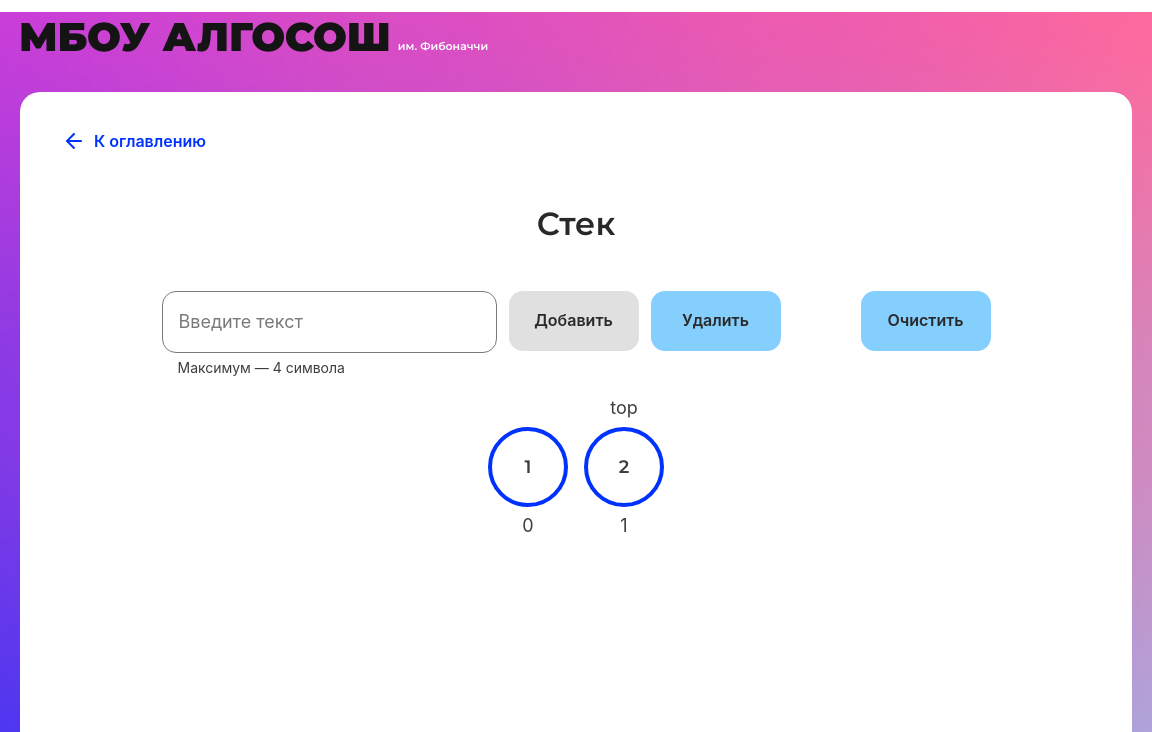
testing stack page › removing from stack works properly
Click the button with test id "removeFromStackButton". click: (716, 321)
box: top-left (651, 291), bottom-right (781, 351)
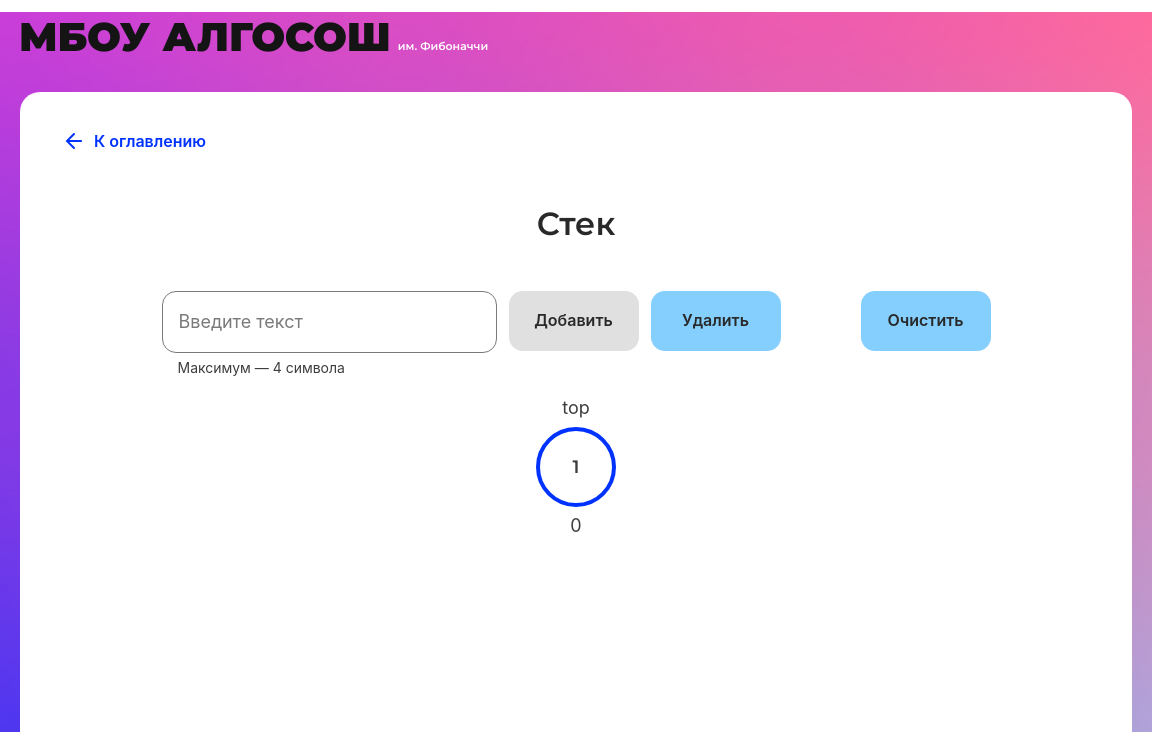
Expected: the number of elements with test id "circle" is 1, top-left (536, 427), bottom-right (616, 507)
Click the button with test id "removeFromStackButton". click: (716, 321)
box: top-left (651, 291), bottom-right (781, 351)
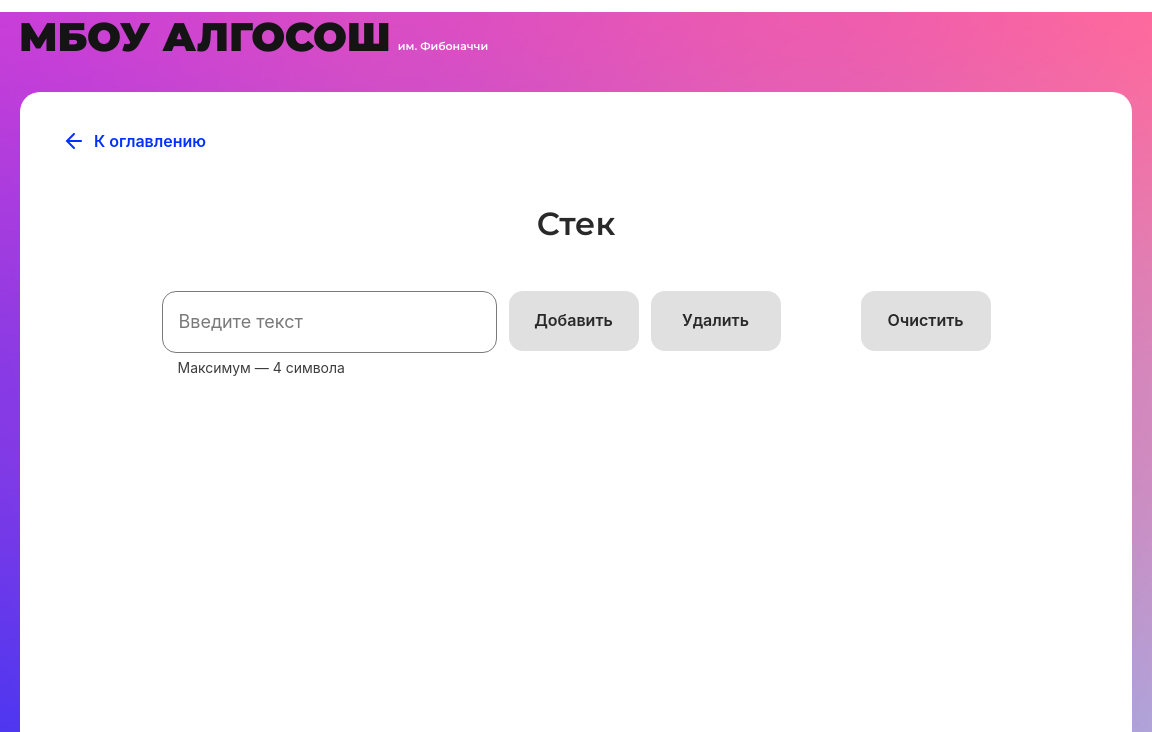
Expected: no elements with test id "circle" are shown
